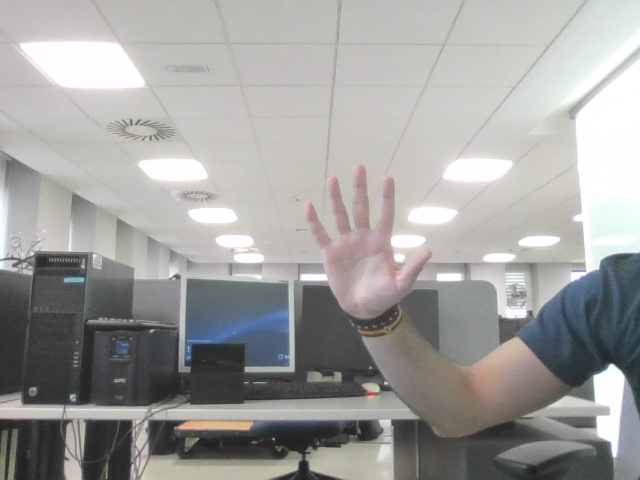Mano Abierta: (313, 177, 420, 296)
